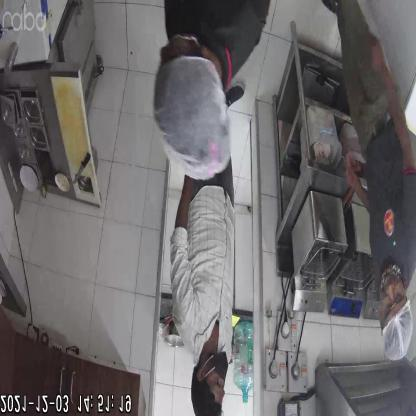no_apron: (175, 179, 234, 363), (359, 125, 409, 291)
